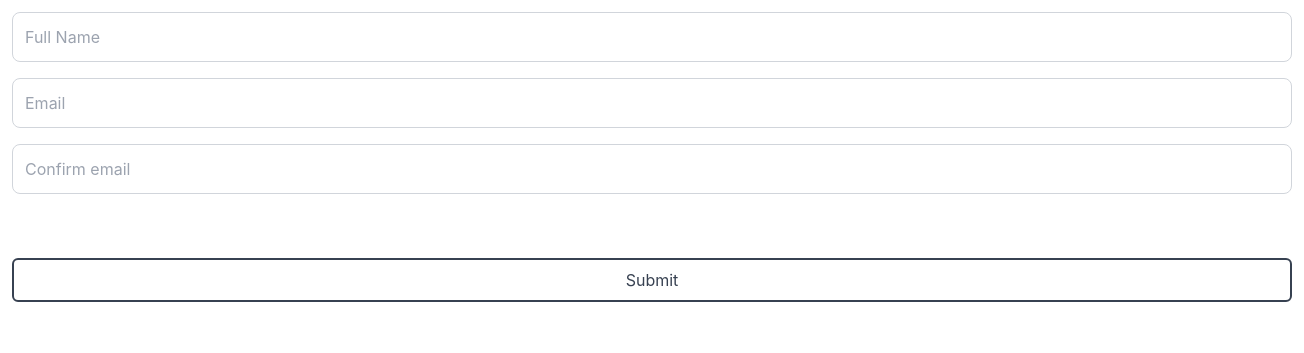
Test case: UserEmailForm › should show an error if the name is too short
Type "Jo" into the field with placeholder "Full Name" at (652, 37), box [12, 12, 1292, 62]
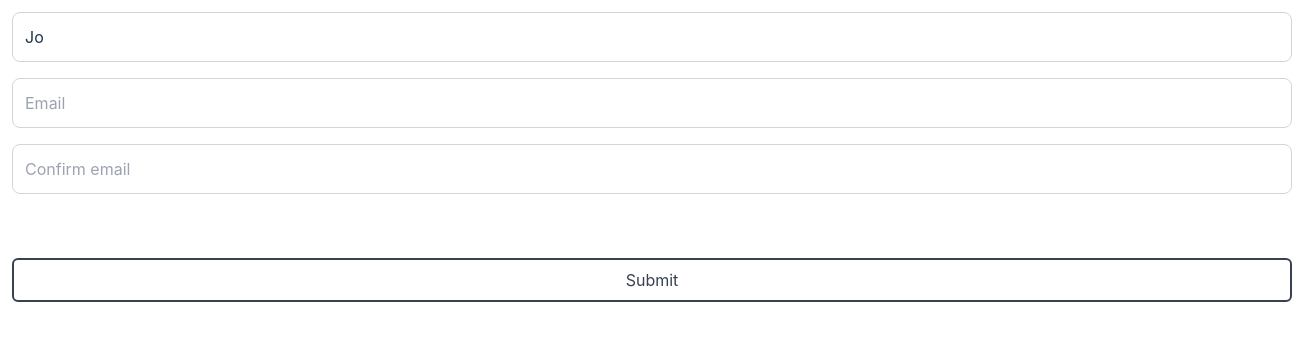
Type "test@example.com" into the field with placeholder "Email" at (652, 103), box [12, 78, 1292, 128]
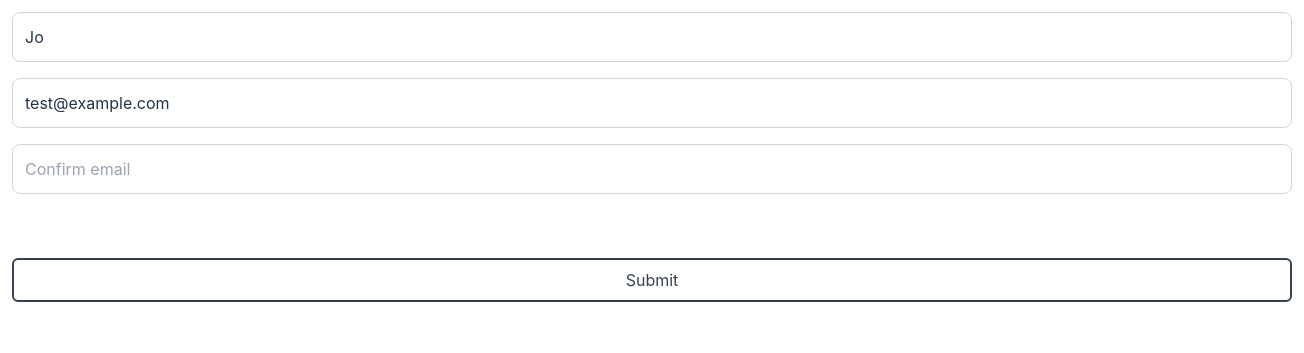
Type "test@example.com" into the field with placeholder "Confirm email" at (652, 169), box [12, 144, 1292, 194]
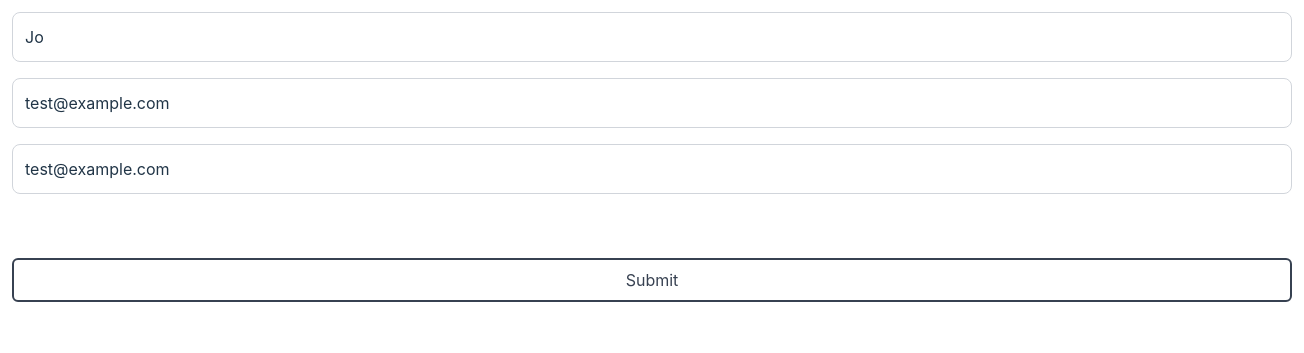
Click the button "Submit" at (652, 280), box [12, 258, 1292, 302]
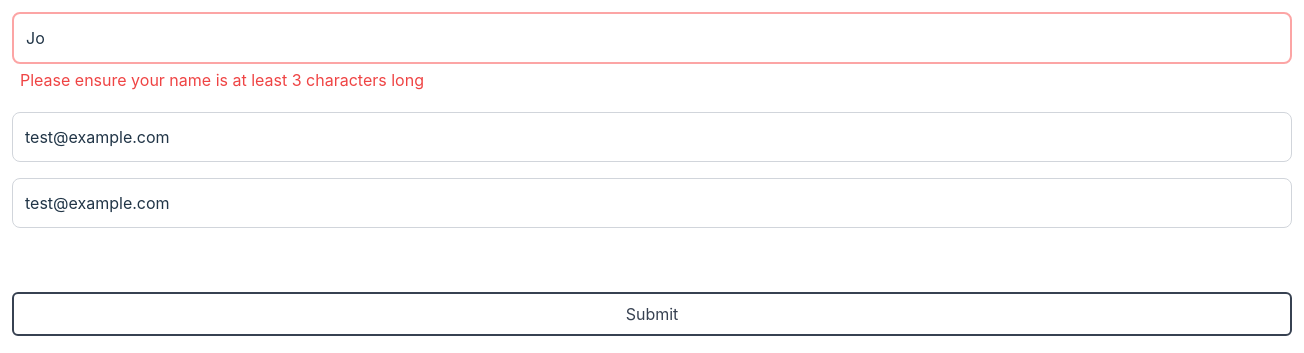
Check: the text "Please ensure your name is at least 3 characters long" is shown, box [20, 70, 424, 90]
